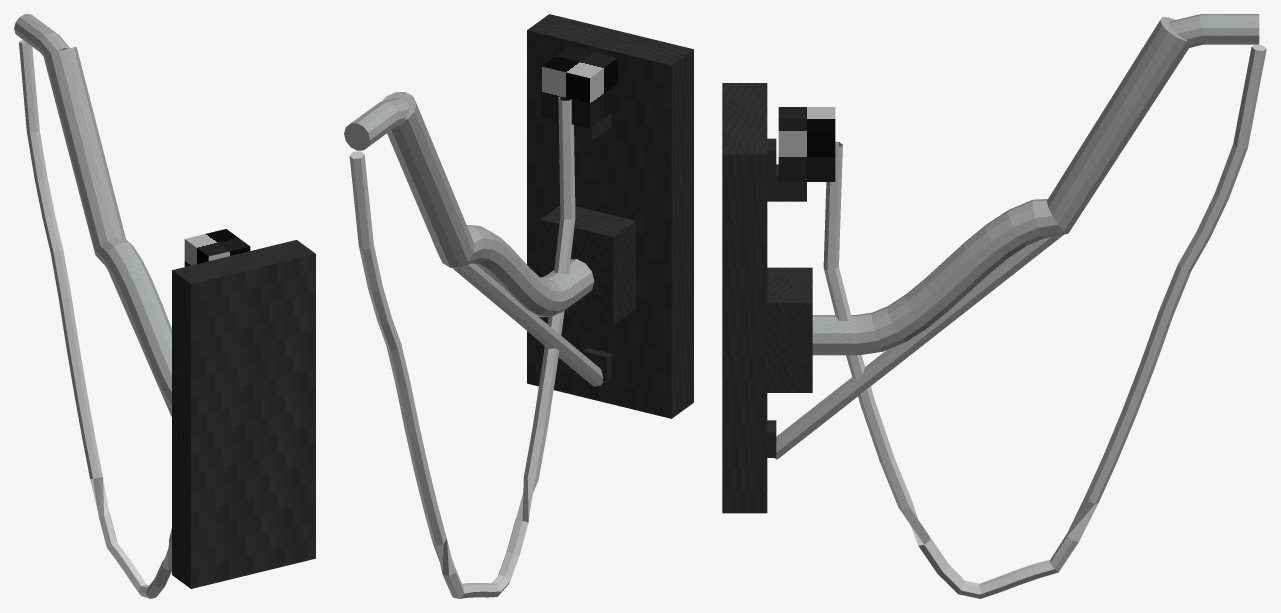
File: arm_1_straight_wired.obj
3 views of the same model, side by side, from view 1: azimuth 30°, elevation 25°; view 2: azimuth 150°, elevation 25°; view 3: azimuth 270°, elevation 25° (orthographic). The views are drawn at different scales.
Visible parts, largest first — view 1: pole_light_mount_1_straight_wired; view 2: pole_light_mount_1_straight_wired; view 3: pole_light_mount_1_straight_wired.
Boxes of the visible parts, box(x1,y1,x2,y2) form: pole_light_mount_1_straight_wired: box(14, 14, 315, 598); pole_light_mount_1_straight_wired: box(344, 14, 693, 598); pole_light_mount_1_straight_wired: box(722, 14, 1266, 598).
Bounding box in the file's own units: 0.375 × 1.42 × 1.2.
